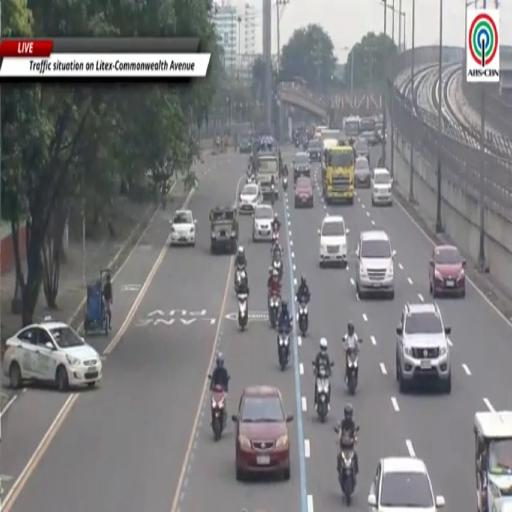car: (2, 317, 102, 391), (233, 386, 293, 481), (396, 302, 451, 393), (368, 457, 444, 511), (356, 231, 395, 299), (429, 245, 466, 297), (318, 216, 349, 267), (210, 206, 238, 253), (170, 210, 196, 246), (252, 204, 273, 242), (371, 168, 392, 205), (238, 184, 262, 214), (292, 152, 310, 183), (354, 157, 372, 188), (295, 178, 314, 207), (354, 139, 369, 161), (308, 139, 322, 162), (359, 130, 376, 146), (239, 137, 252, 153)
jeepney: (474, 411, 511, 511)
motorcycle: (339, 427, 359, 505), (211, 386, 226, 441), (315, 367, 330, 422), (346, 350, 358, 395), (278, 331, 290, 371), (297, 301, 308, 337), (269, 295, 280, 329), (238, 294, 248, 330), (235, 266, 247, 293), (273, 260, 282, 281), (271, 231, 279, 252), (246, 174, 256, 184), (271, 184, 275, 205), (283, 176, 287, 191), (295, 138, 300, 148)
tricycle: (84, 269, 109, 334)
truck: (322, 146, 354, 204), (256, 153, 279, 198), (343, 117, 360, 138)
